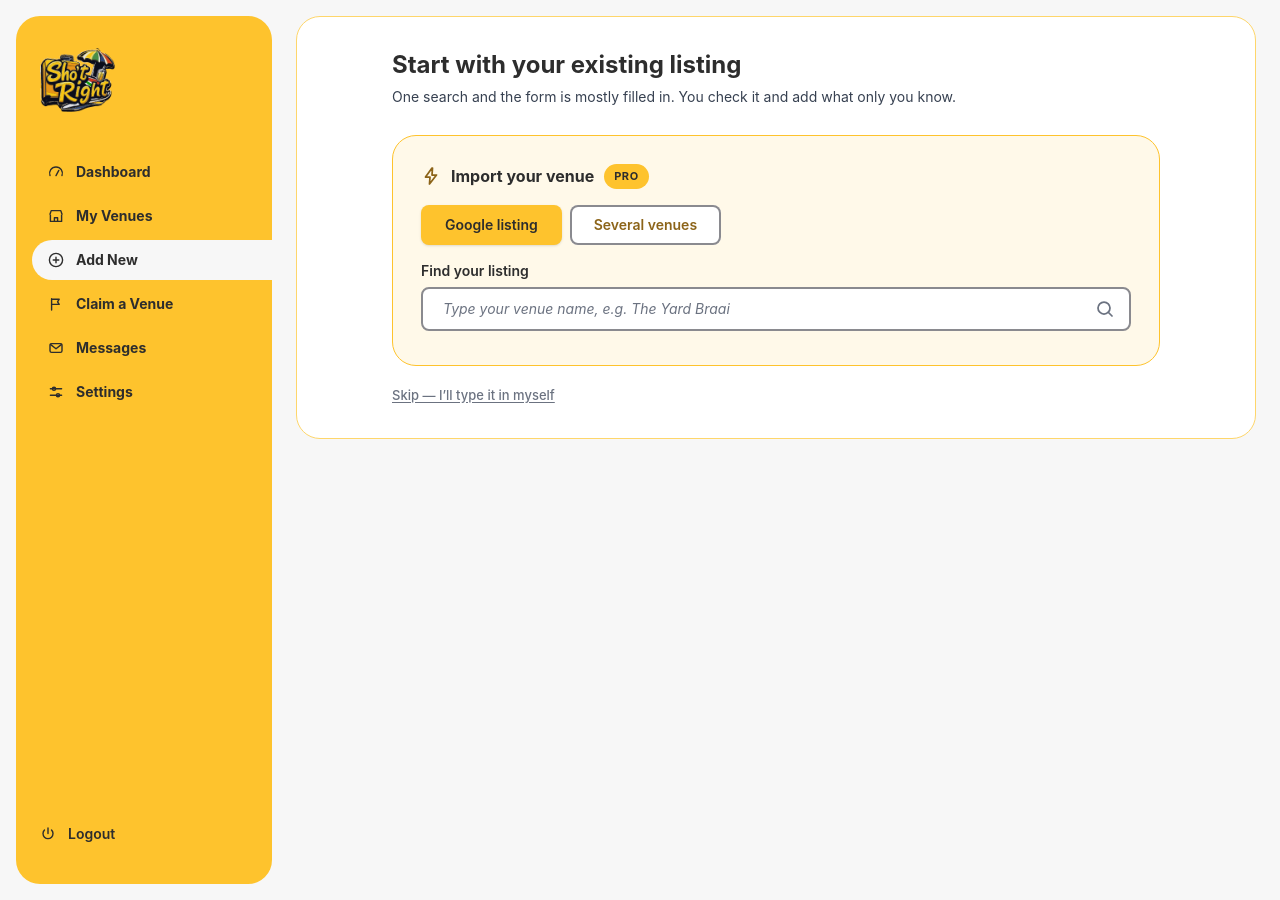
importing is Pro › does not lock anybody when the bench has no paywall
The width and height of the screenshot is (1280, 900).
Type "Yard" into the field labelled "Find your listing" at (776, 308), box [421, 286, 1131, 330]
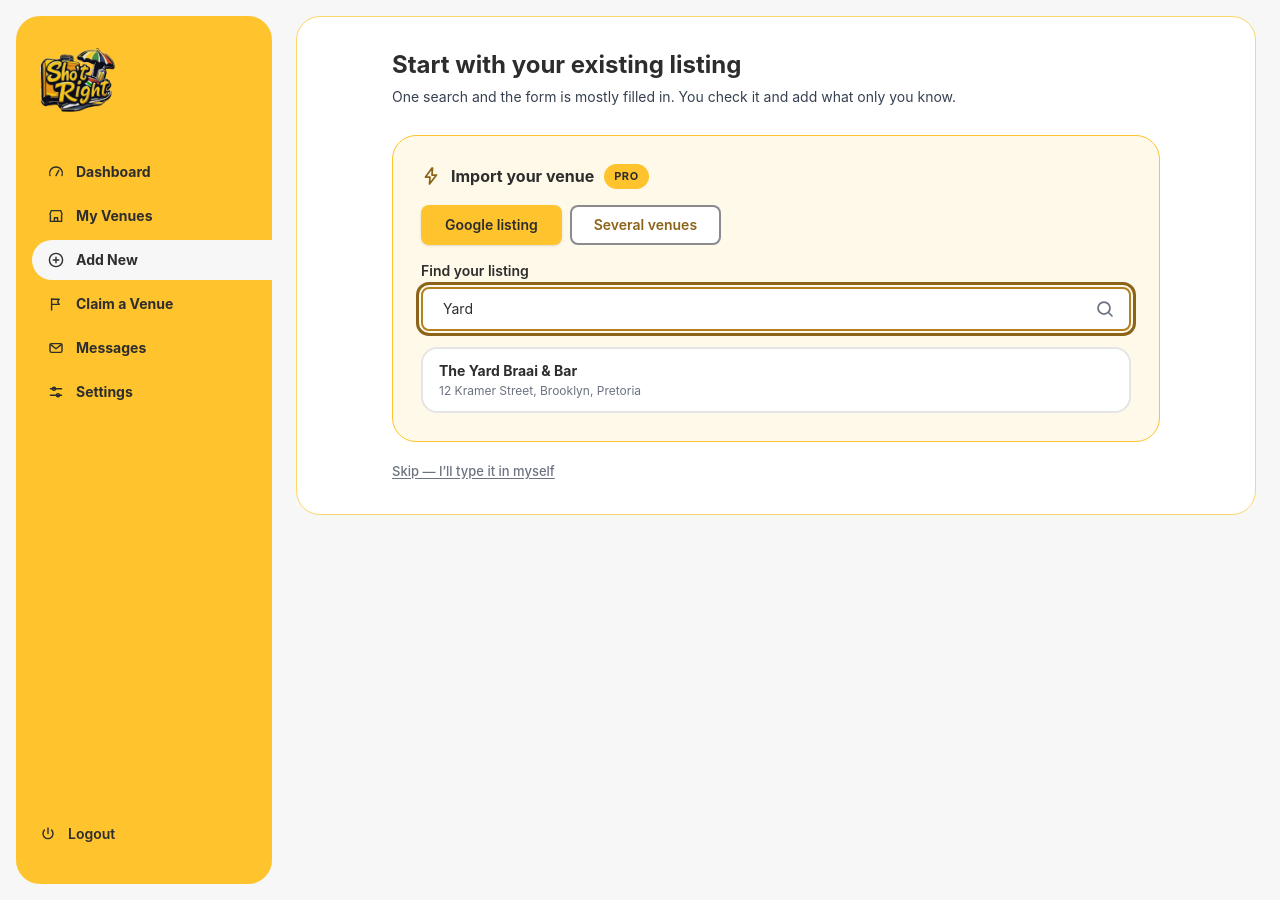
Expected: the button "The Yard Braai & Bar 12 Kramer Street, Brooklyn, Pretoria" is shown, [421, 346, 1131, 412]
